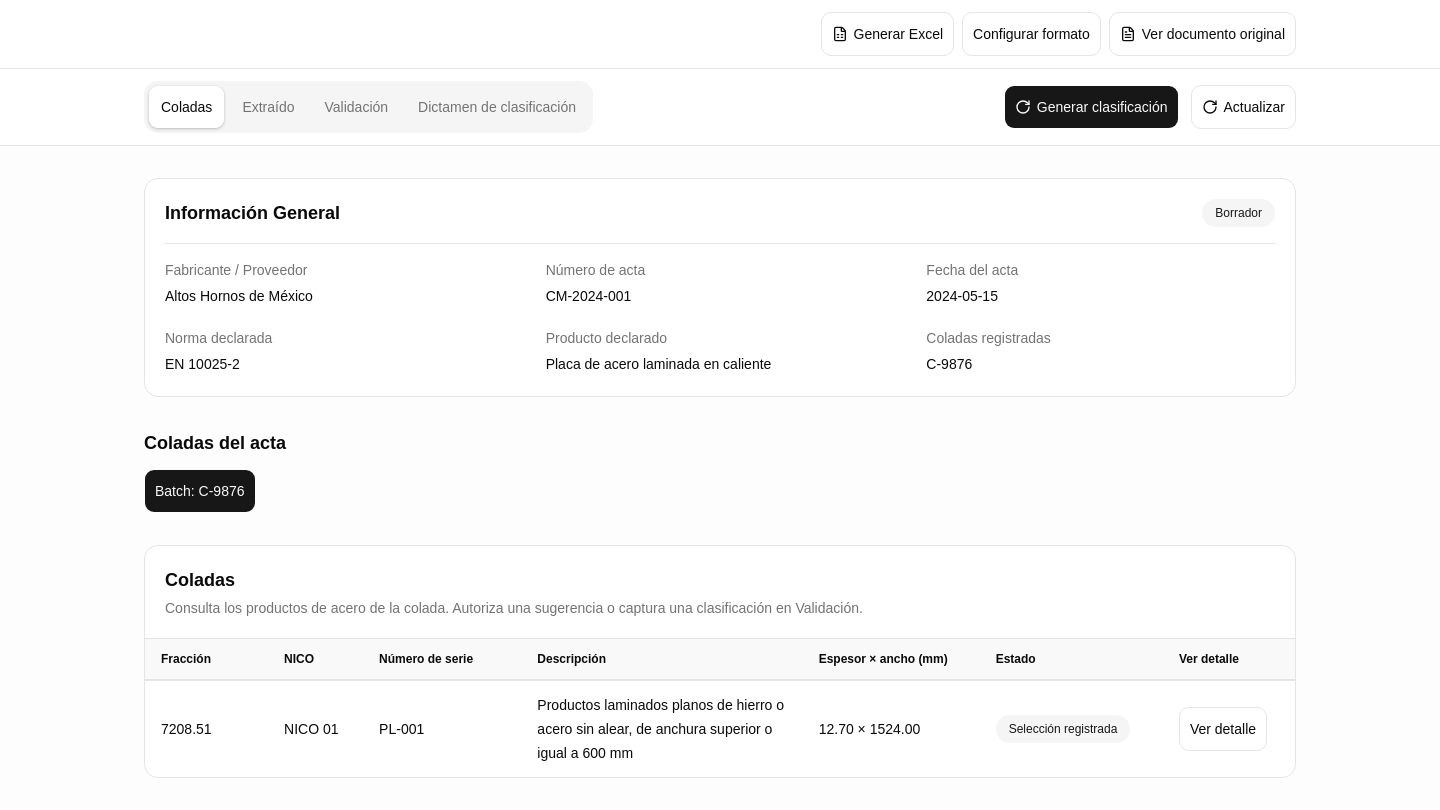
Test: la página sólo permite confirmar cuando todas las coladas están autorizadas: true
The image size is (1440, 810).
Click the button "Dictamen de clasificación" at (497, 107), box [405,85,589,129]
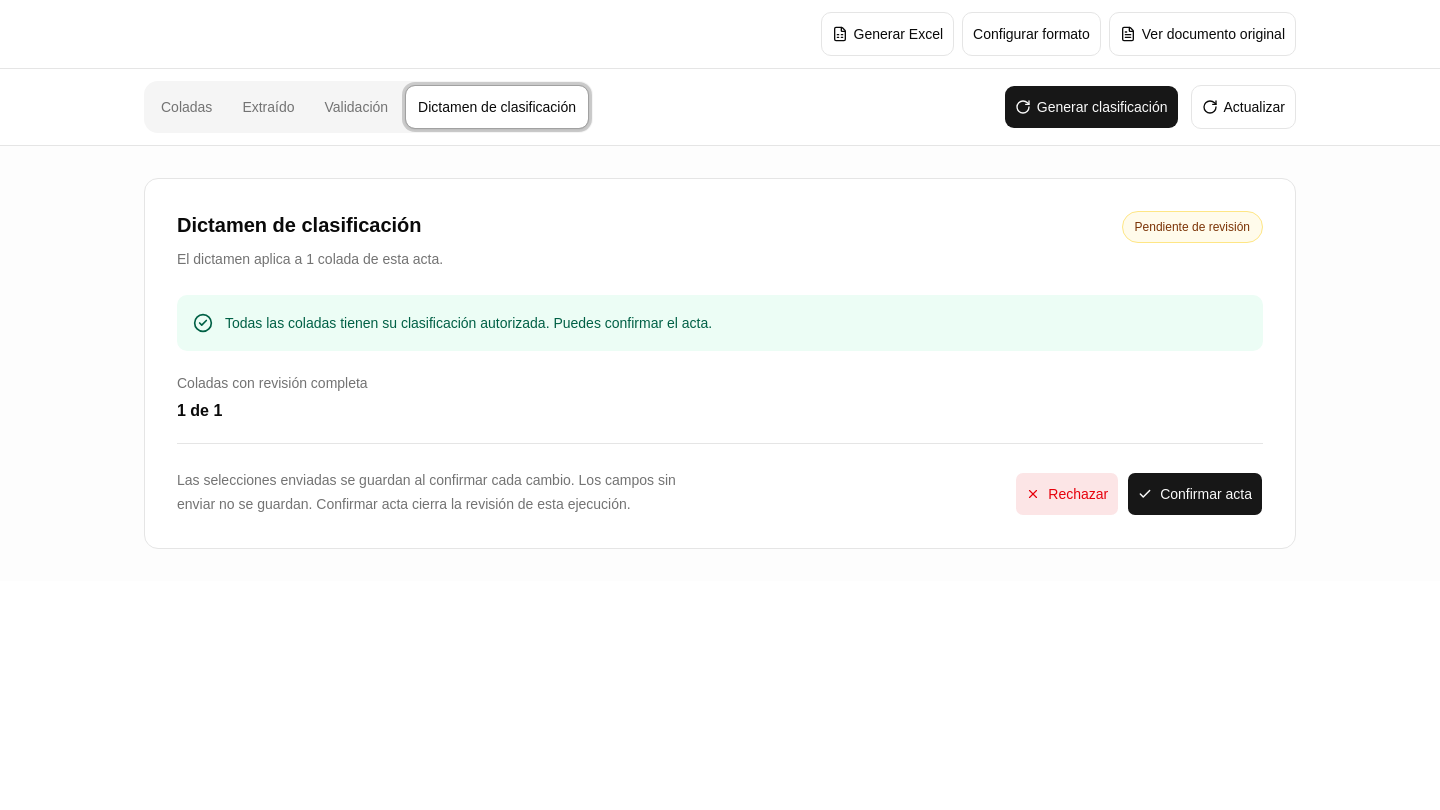
expect the button "Confirmar acta" is enabled: met, box [1127,472,1263,516]
